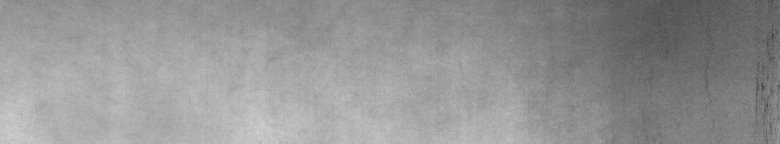ka: (705, 32, 776, 136)
